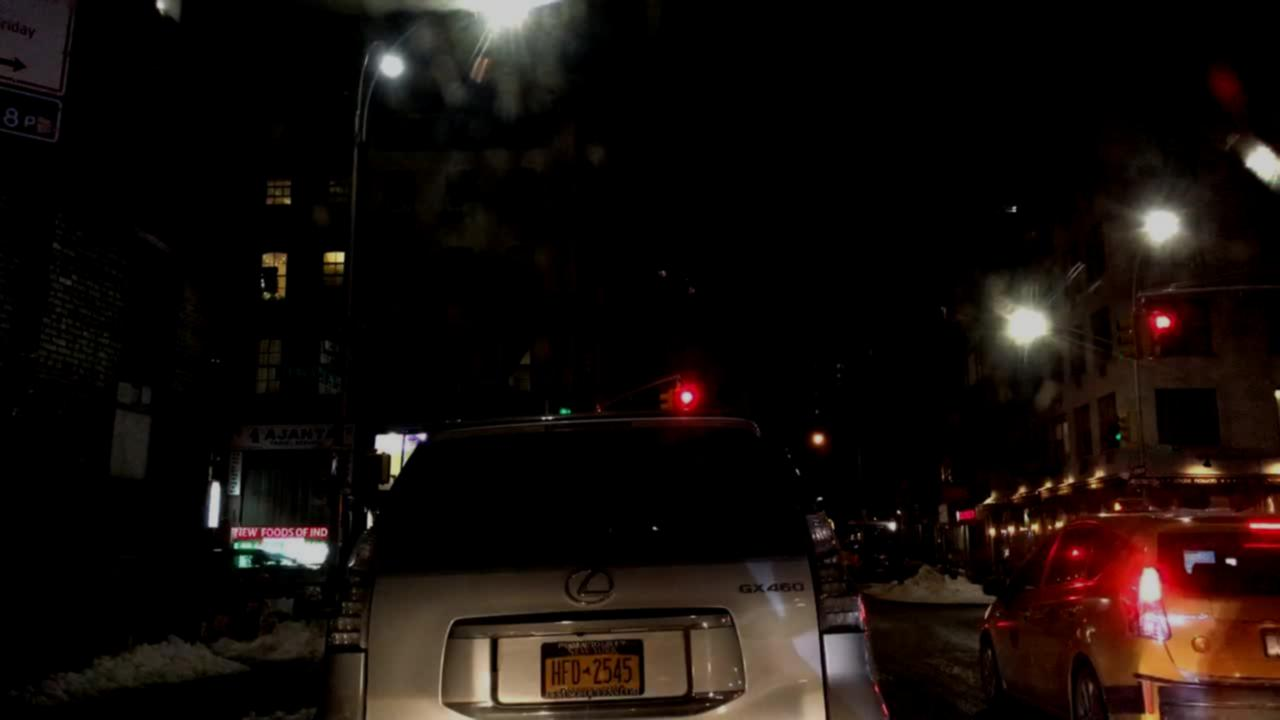lexus: (543, 553, 633, 607)
